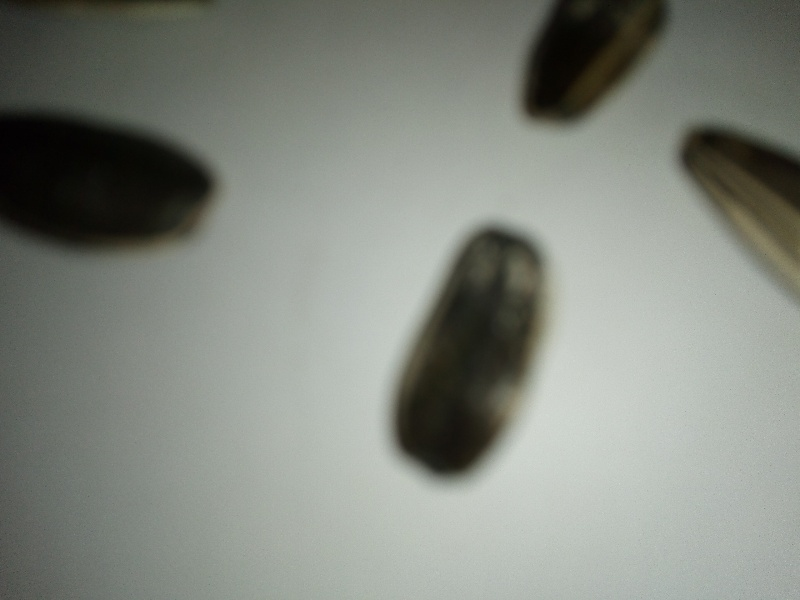w: (367, 209, 569, 494)
